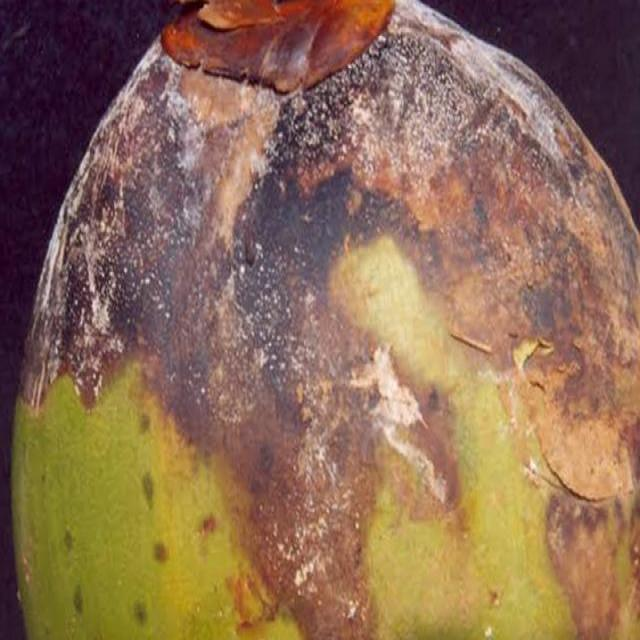damaged: (8, 0, 639, 639)
